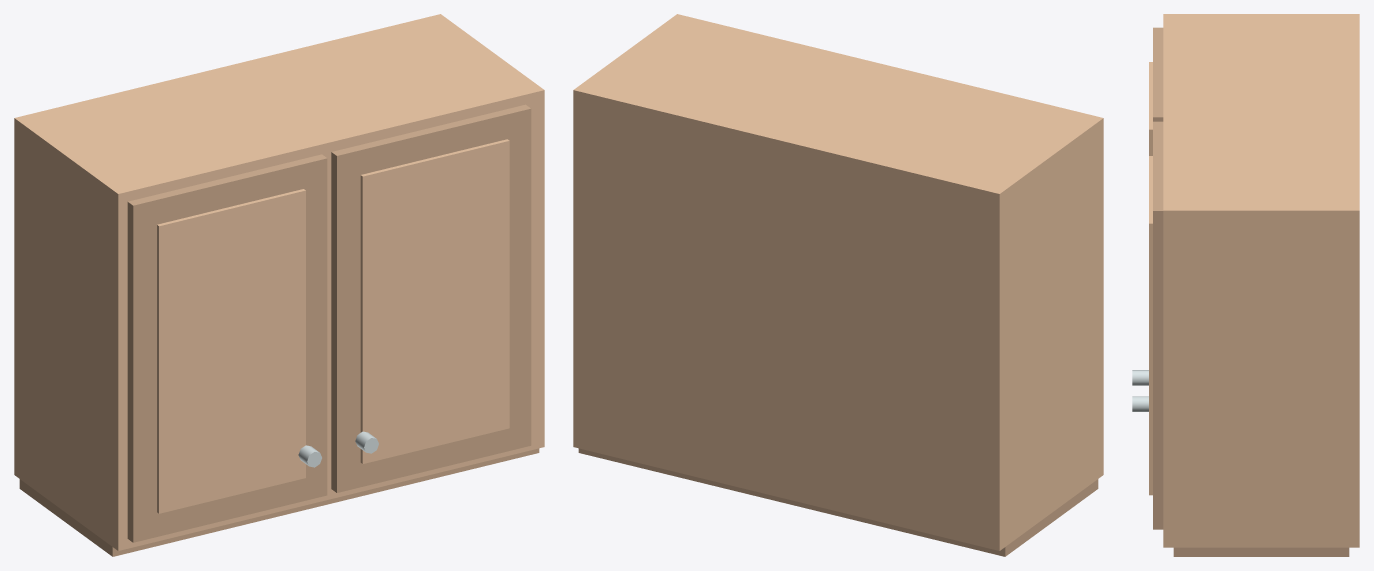
File: wallCabinetShaker.glb
The picture shows the model from 3 angles, left to right: view 1: azimuth 30°, elevation 25°; view 2: azimuth 150°, elevation 25°; view 3: azimuth 270°, elevation 25°; orthographic projection. The views are drawn at different scales.
Visible parts, largest first — view 1: wallCabinetShaker; view 2: wallCabinetShaker; view 3: wallCabinetShaker.
Part boxes in pixels (x1,y1,x2,y2): wallCabinetShaker: (14, 14, 544, 556); wallCabinetShaker: (573, 14, 1103, 556); wallCabinetShaker: (1132, 14, 1359, 556).
Size of the model in its own units: 0.45 by 0.37 by 0.22.
